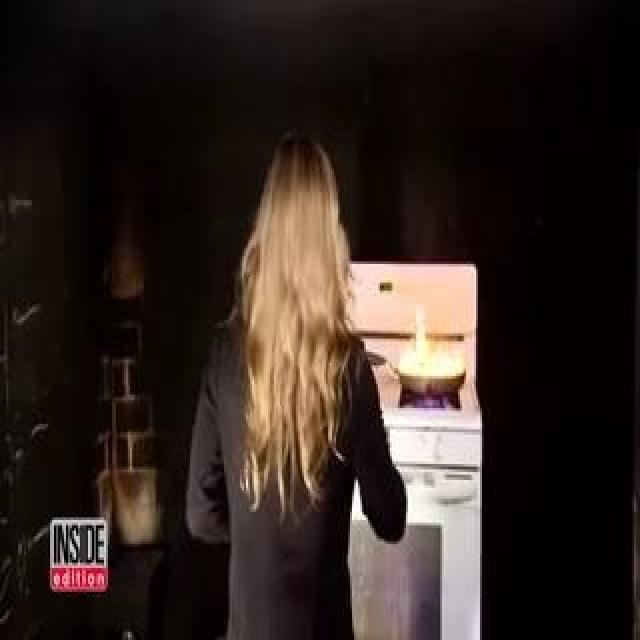Fire: (72, 82, 430, 346)
